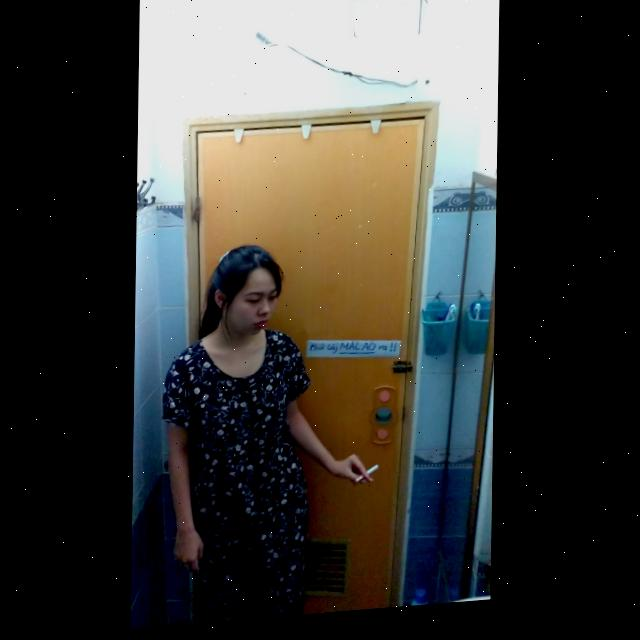cigarette: (356, 471, 380, 489)
